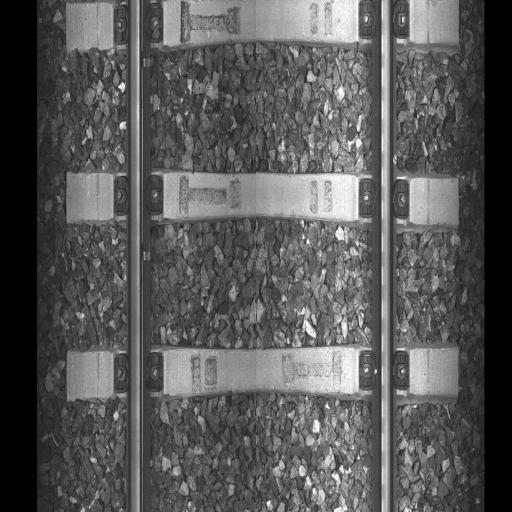clips: (114, 171, 163, 218), (114, 350, 163, 396), (358, 349, 410, 392), (359, 177, 408, 218), (114, 6, 162, 46), (359, 6, 408, 40)
sleepers: (65, 171, 460, 230), (66, 346, 460, 400), (64, 3, 459, 53)
